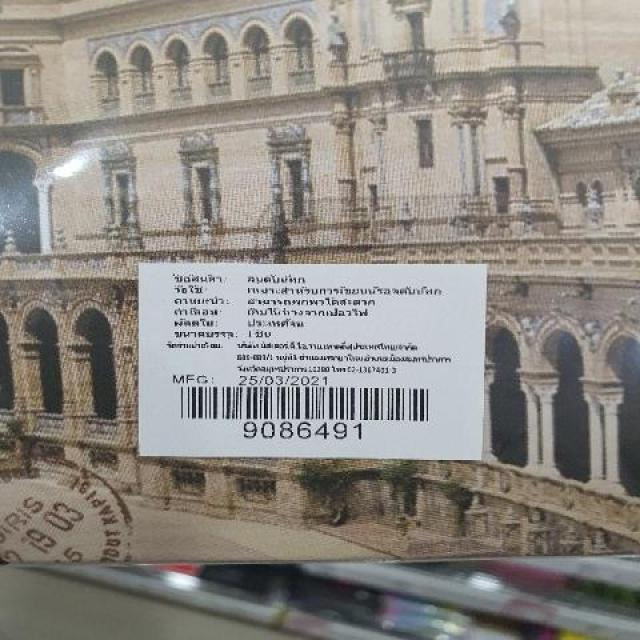Barcode: (171, 382, 444, 438)
